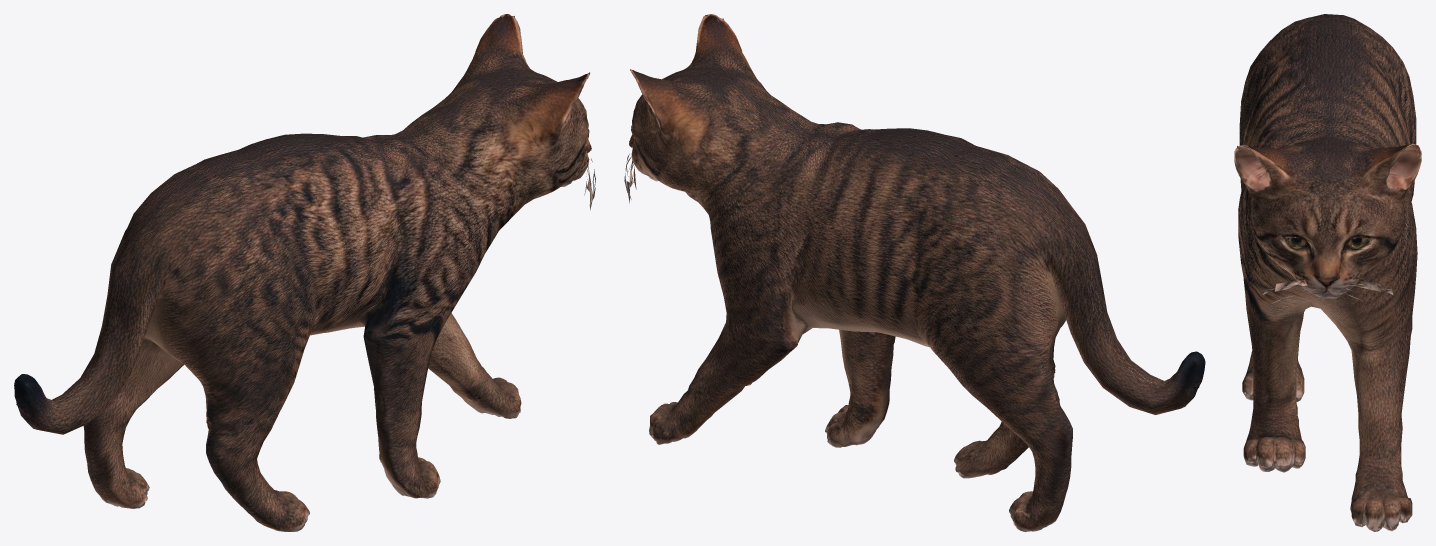
Rendered from cat.glb.
3 views of the same model, side by side, from view 1: azimuth 30°, elevation 25°; view 2: azimuth 150°, elevation 25°; view 3: azimuth 270°, elevation 25° (orthographic). The views are drawn at different scales.
Visible parts, largest first — view 1: Model_0; view 2: Model_0; view 3: Model_0.
Boxes of the visible parts, x1,y1,x2,y2 form: Model_0: (14,14,595,531); Model_0: (624,14,1205,531); Model_0: (1234,14,1421,531).
Bounding box in the file's own units: 1 × 0.6438 × 0.272.
1 material, 1 textured.
